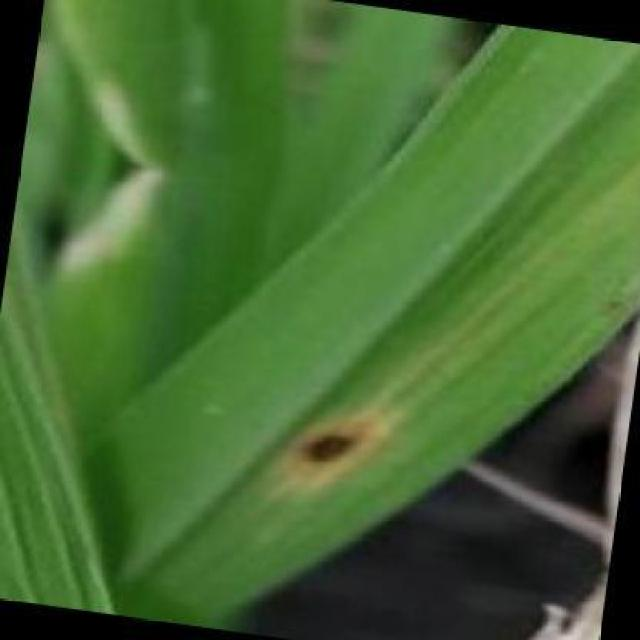Leaf_Blast: (278, 405, 388, 483)
